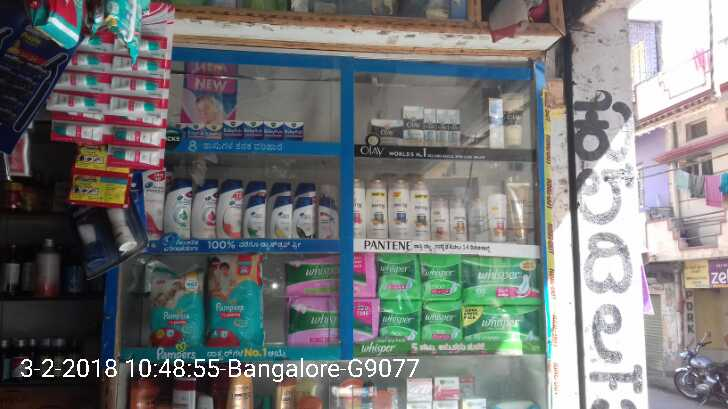beauty: (213, 180, 247, 240), (191, 175, 217, 240), (166, 179, 192, 238), (268, 192, 294, 244), (367, 175, 387, 242), (410, 177, 430, 240), (241, 192, 264, 244), (369, 115, 406, 147), (389, 179, 407, 240), (292, 196, 318, 236), (426, 196, 449, 240), (403, 104, 424, 147), (446, 202, 467, 240)
pharmacy: (204, 258, 268, 353), (288, 299, 376, 352), (146, 268, 206, 344), (459, 255, 542, 308), (285, 252, 375, 296), (455, 302, 546, 344), (369, 254, 423, 304), (416, 254, 463, 299), (378, 304, 421, 345), (416, 306, 463, 341), (285, 122, 306, 152), (225, 119, 245, 145), (242, 124, 264, 142), (264, 119, 282, 140)
